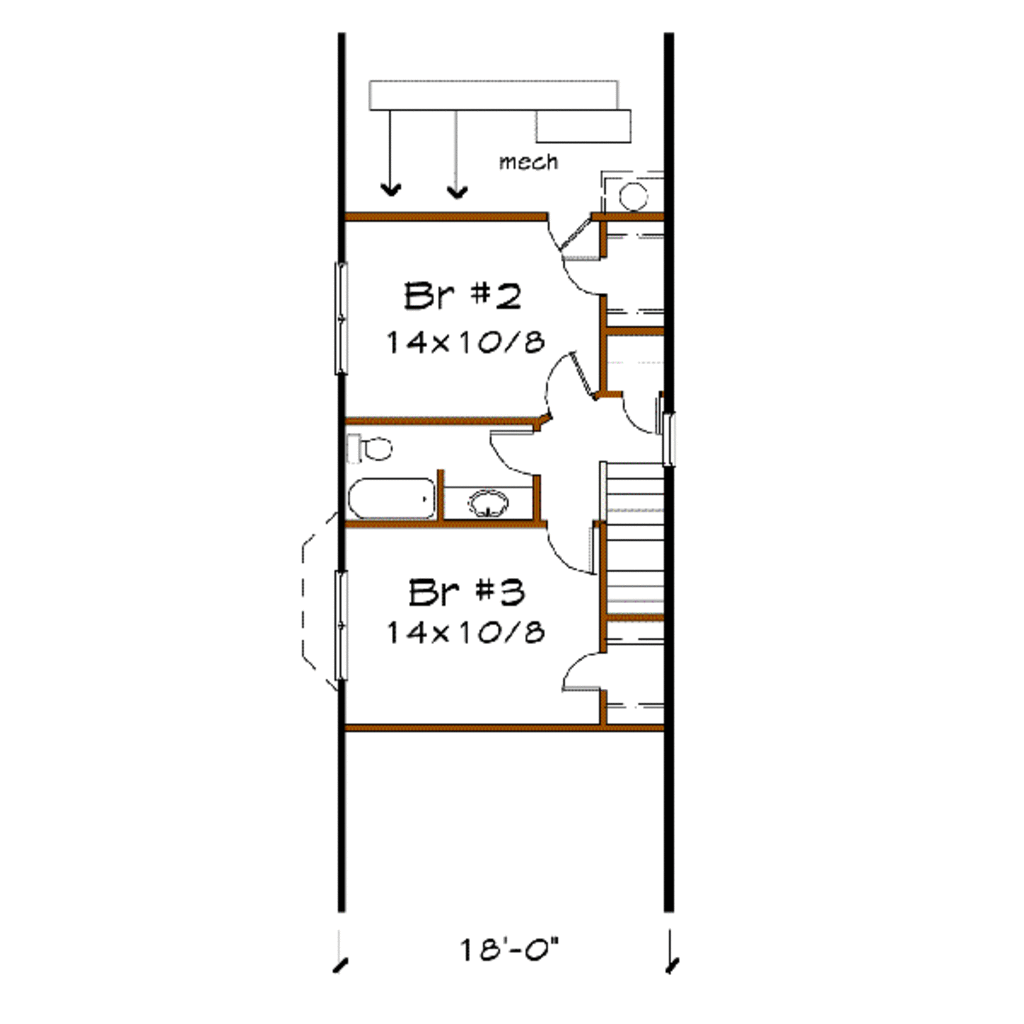door: (529, 519, 621, 589), (345, 468, 439, 519), (532, 347, 598, 417), (486, 422, 545, 481), (563, 644, 613, 701), (615, 385, 663, 439), (561, 251, 604, 301), (540, 200, 588, 244)
large_sink: (345, 427, 402, 468)
small_sink: (445, 470, 532, 517)
stairs: (598, 457, 674, 620)
window: (332, 255, 356, 381), (328, 558, 347, 678)
